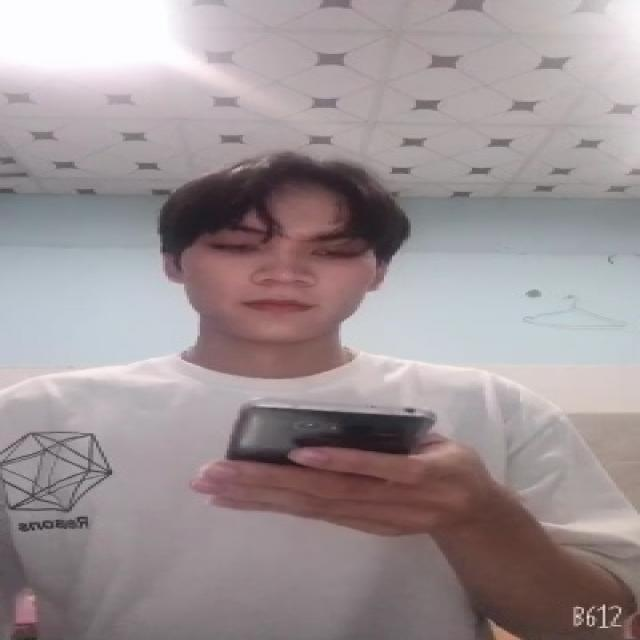Phone: (219, 395, 443, 466)
